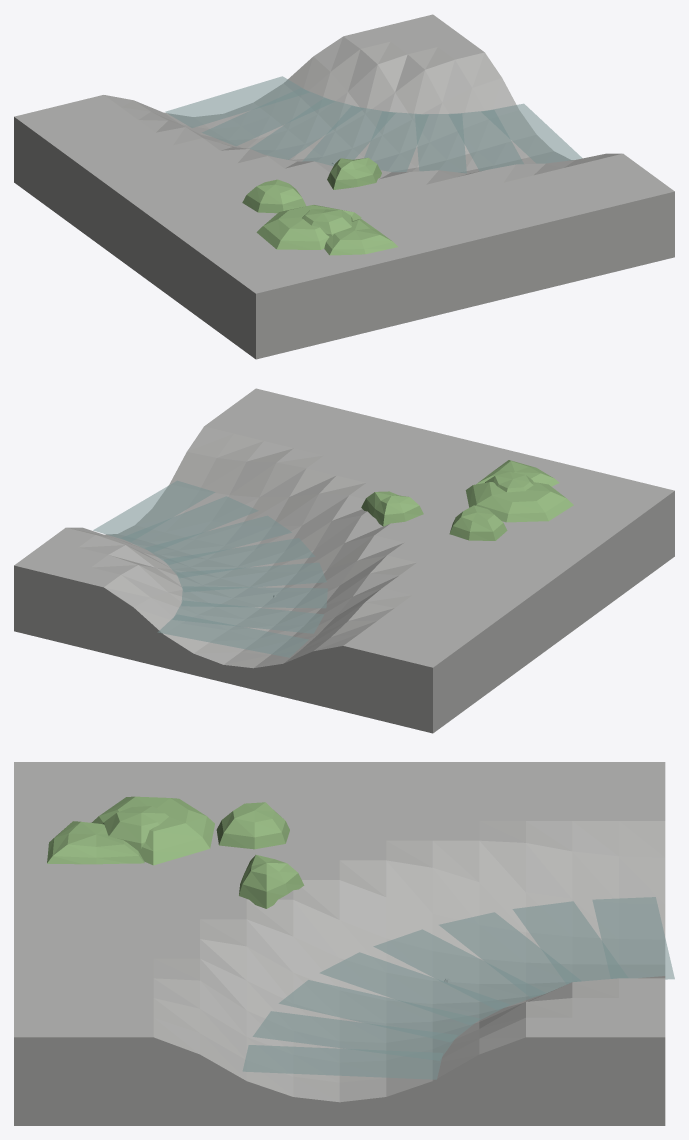
File: dense-temperate-forest-flora-stream-bend-74db45b2.glb
The picture shows the model from 3 angles, top to bottom: view 1: azimuth 30°, elevation 25°; view 2: azimuth 150°, elevation 25°; view 3: azimuth 270°, elevation 25°; orthographic projection. The views are drawn at different scales.
Visible parts, largest first — view 1: stream-bend; view 2: stream-bend; view 3: stream-bend.
Part boxes in pixels (<box>): stream-bend: <box>14,14,674,359</box>; stream-bend: <box>14,388,674,733</box>; stream-bend: <box>14,762,674,1125</box>.
Size of the model in its own units: 2.03 by 0.3829 by 2.03.
